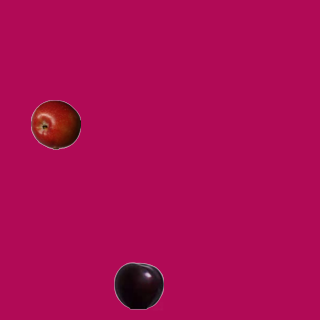Apple Braeburn: (30, 99, 80, 149)
Cherry Wax Black: (113, 260, 163, 310)
